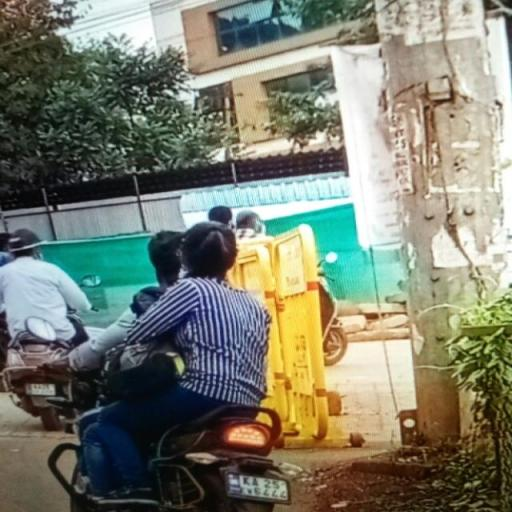bike: (23, 218, 329, 512)
numberplate: (227, 474, 292, 504)
withouthelmet: (187, 223, 238, 281), (150, 232, 182, 280)
